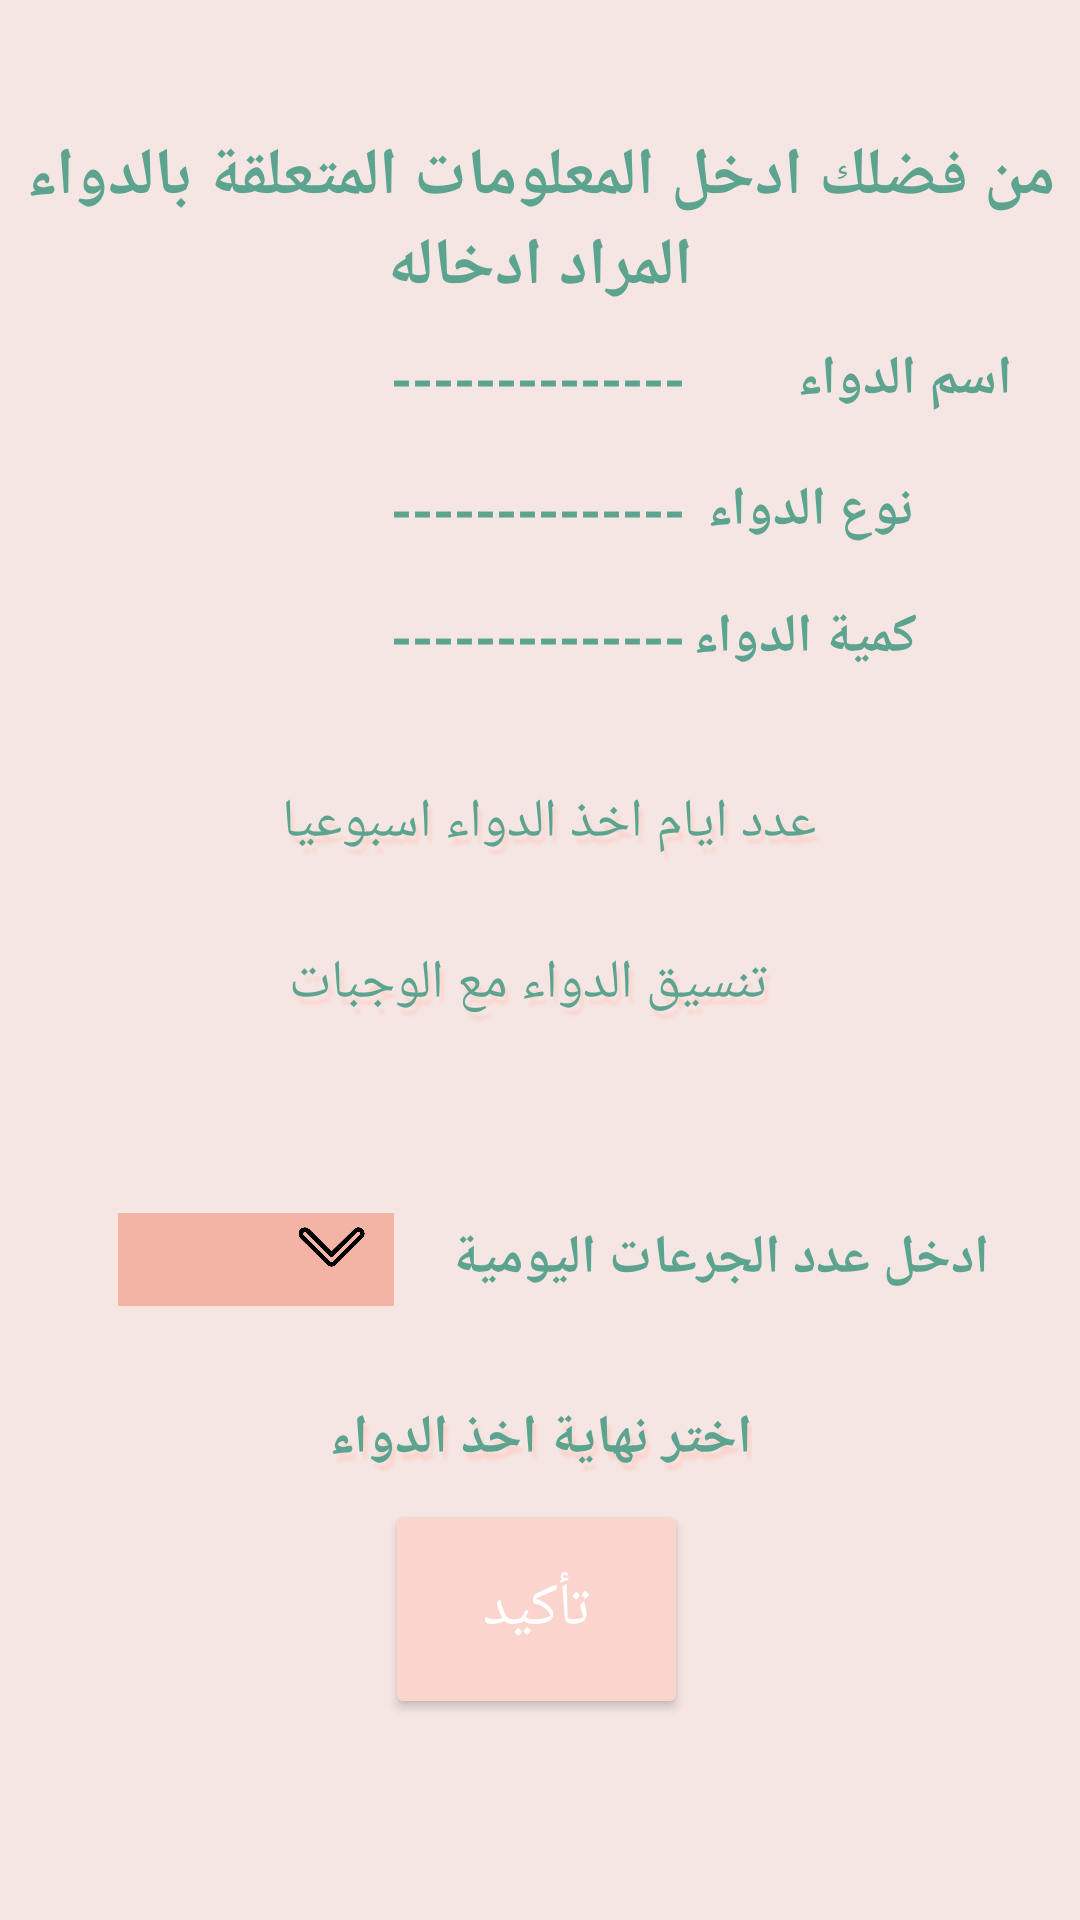

Screen size 1080 x 1920. Icon name, then its box in pixels as (x1=x1, y1=y1, x2=x2, y2=y2):
down arrow: (x1=299, y1=1227, x2=365, y2=1267)
